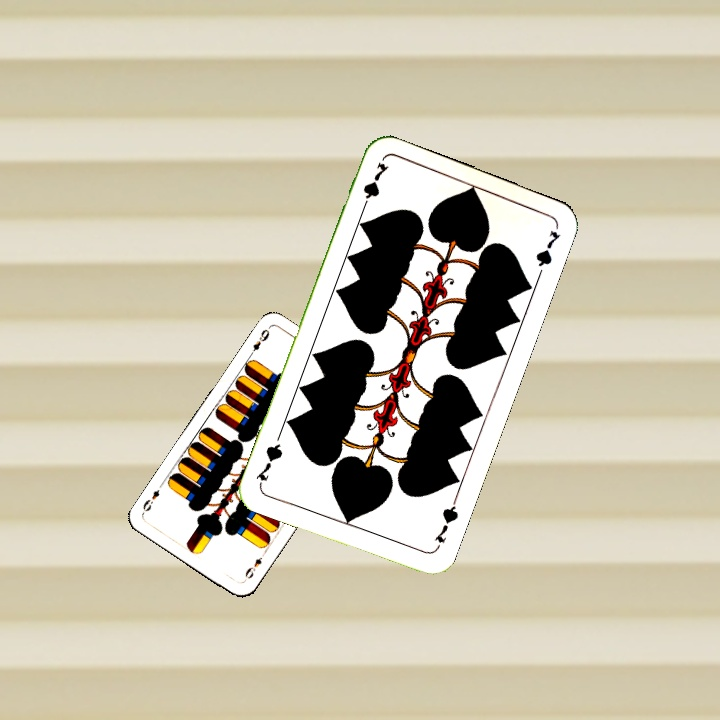E9: (244, 324, 272, 360), (240, 553, 264, 584)
G7: (357, 158, 391, 215), (430, 495, 461, 552)
